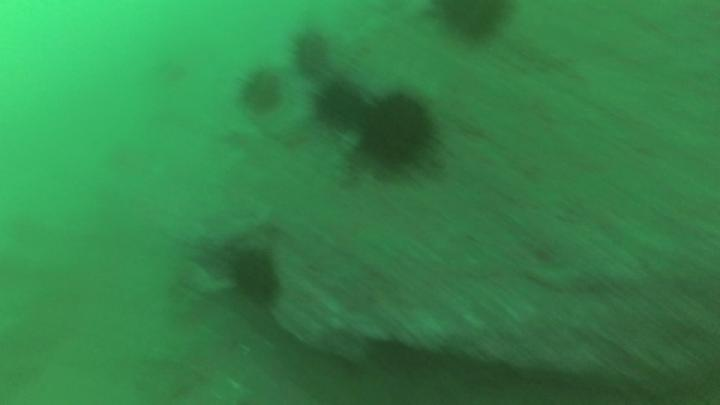holothurian: (360, 89, 440, 181), (216, 238, 289, 315), (428, 1, 524, 52), (306, 72, 379, 137), (230, 58, 291, 121), (283, 23, 340, 81)
